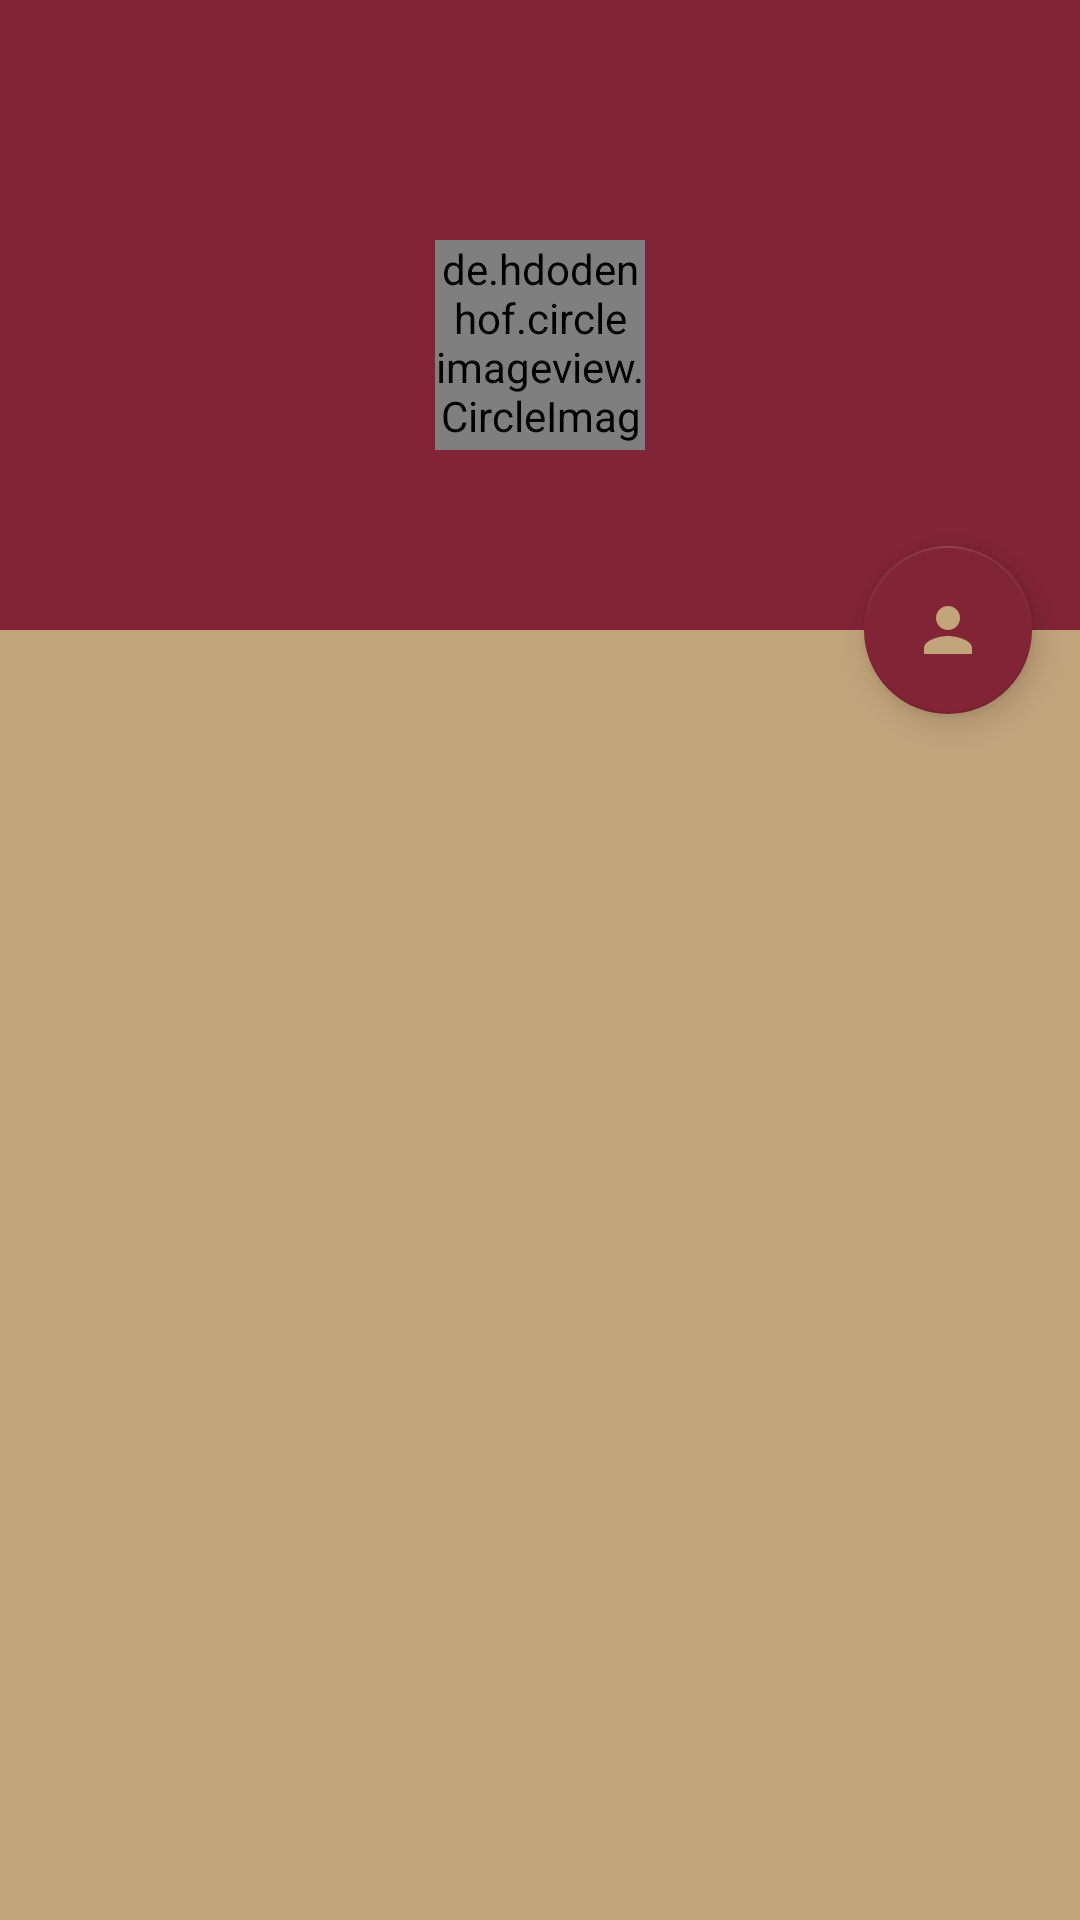

Point at icon controls on the screen. Image size 1080 x 1920, points as point (x, y).
person: point (948, 630)
